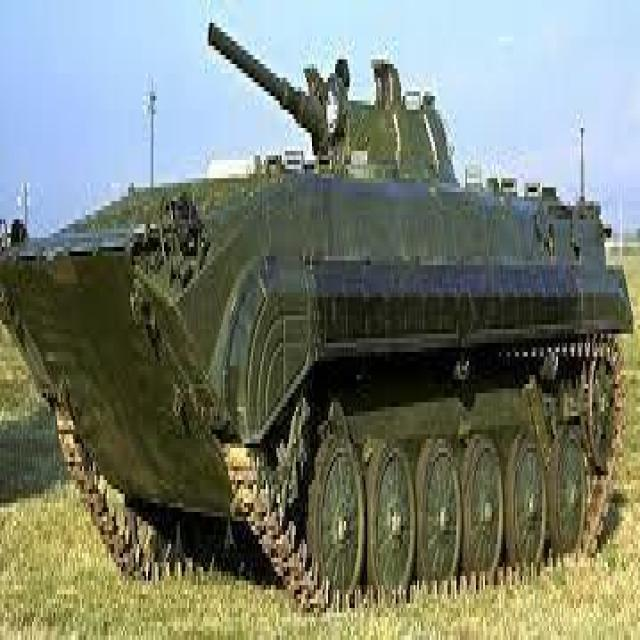Tanks: (35, 87, 632, 580)
